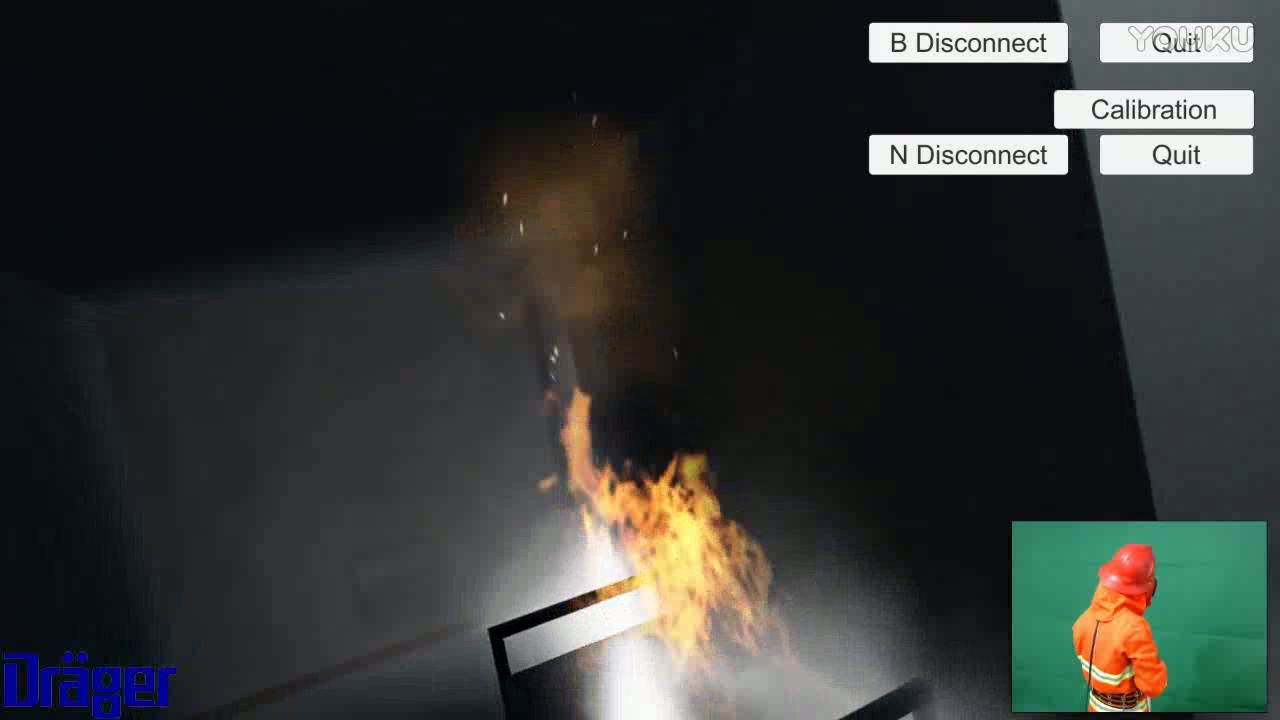fire: (540, 385, 788, 686)
